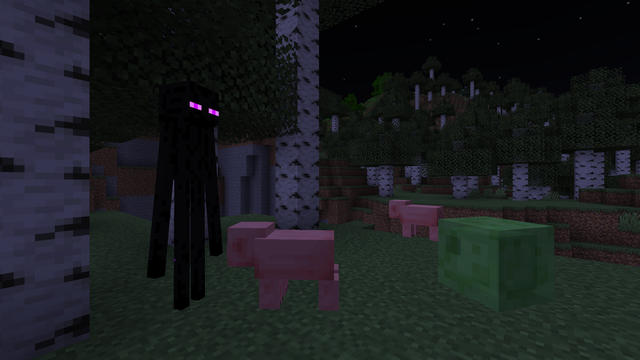cochons: (250, 224, 343, 323), (400, 203, 442, 241)
endermens: (156, 69, 222, 319)
slimes: (443, 213, 537, 317)
